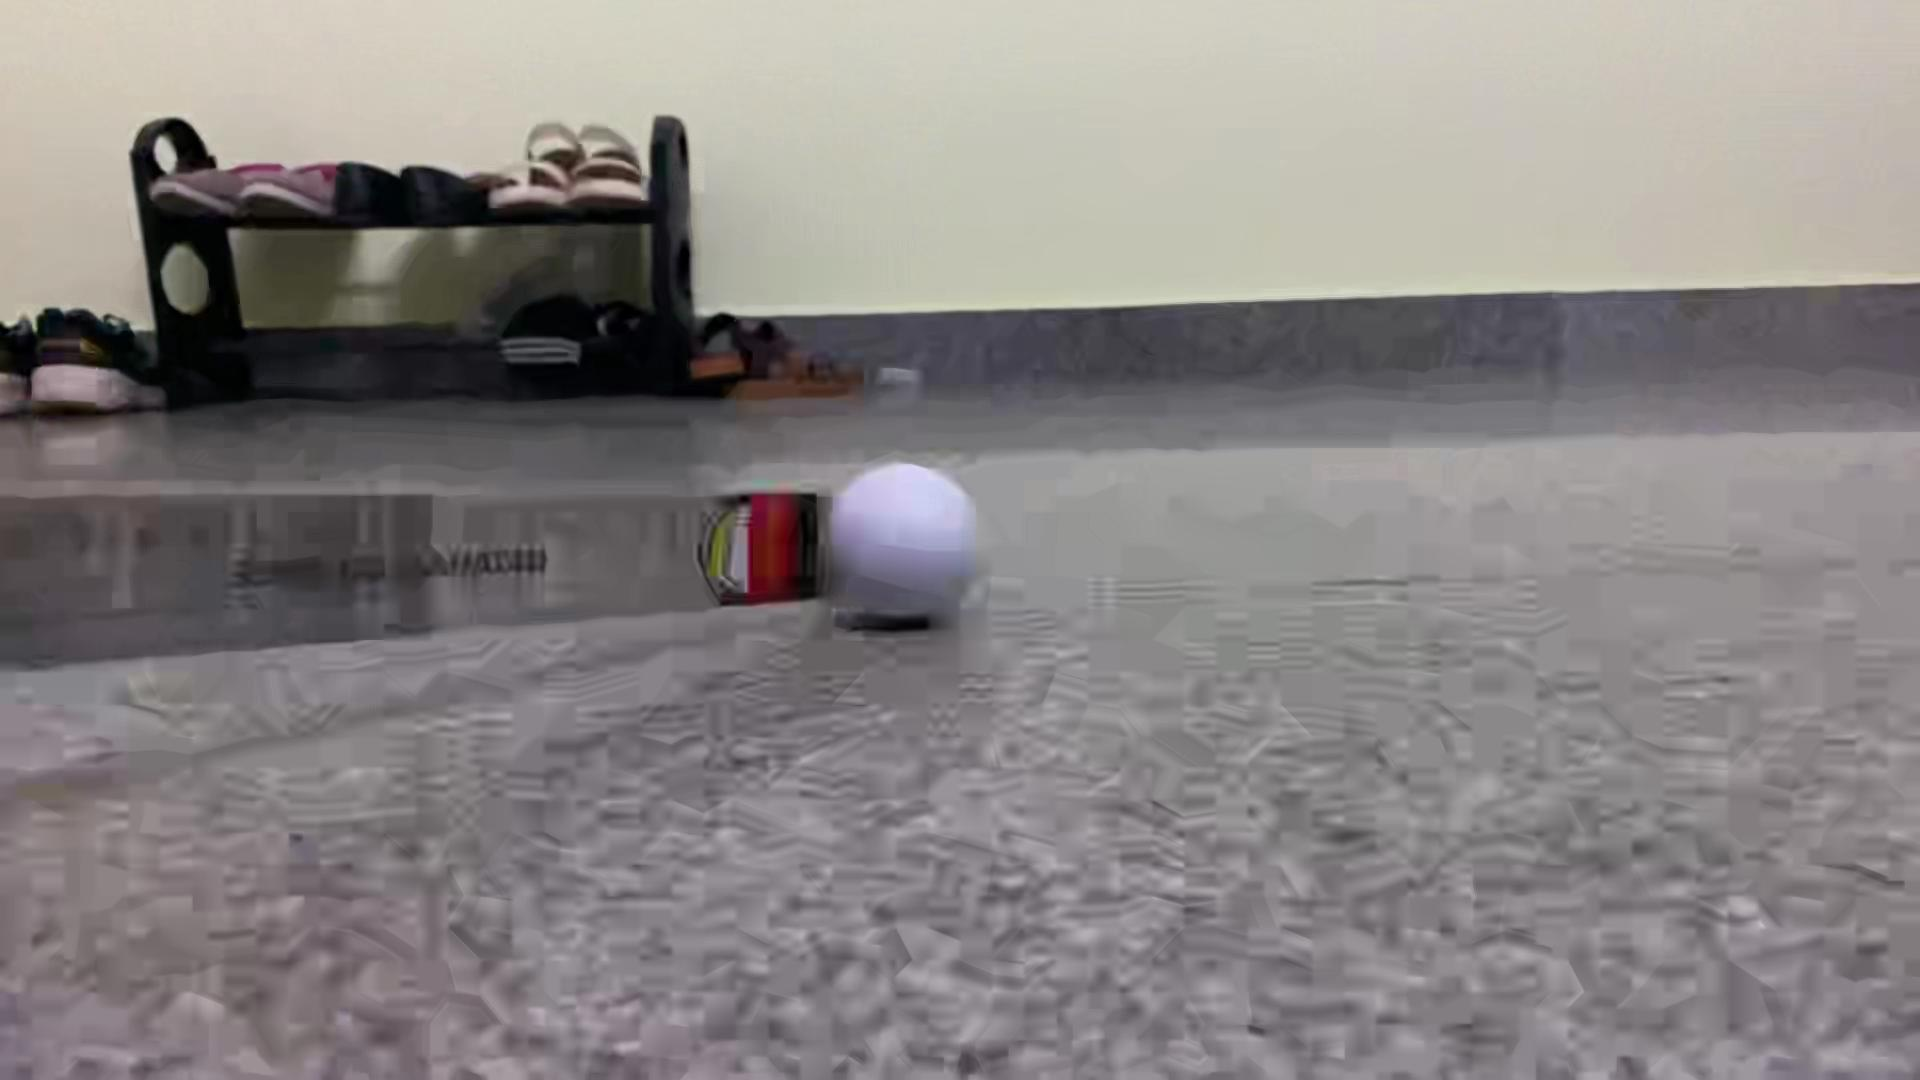golfball: (825, 462, 985, 623)
